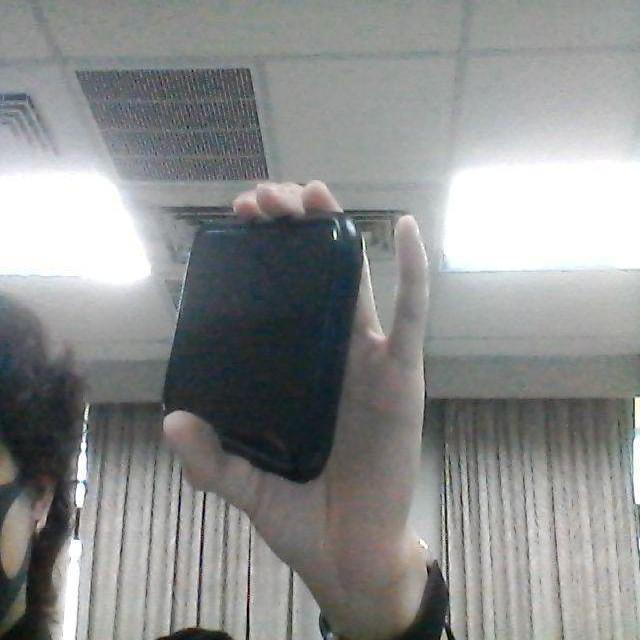mobile: (158, 197, 367, 488)
